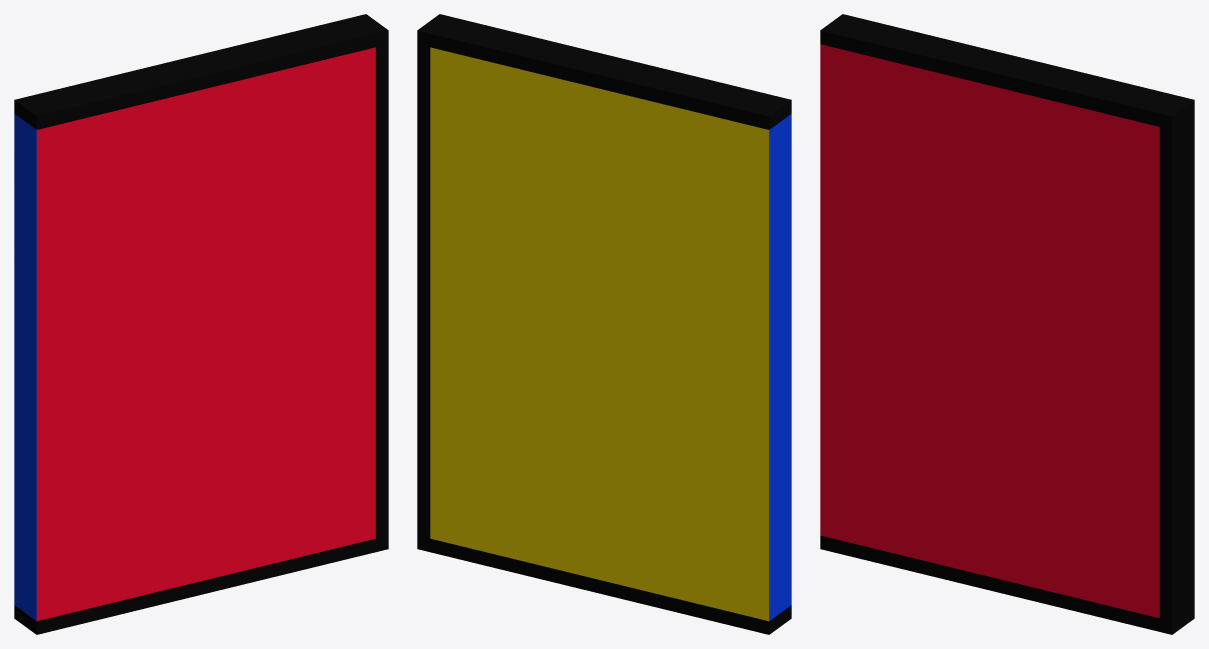
The model's file is carcasaPLACEHOLDER.glb.
3 renders of one model, left to right at view 1: azimuth 30°, elevation 25°; view 2: azimuth 150°, elevation 25°; view 3: azimuth 330°, elevation 25°, orthographic.
Parts seen in each view (by area): view 1: GameCase_LowDetail; view 2: GameCase_LowDetail; view 3: GameCase_LowDetail.
Part boxes in pixels (x1,y1,x2,y2): GameCase_LowDetail: [14, 14, 388, 634]; GameCase_LowDetail: [417, 14, 791, 634]; GameCase_LowDetail: [820, 14, 1194, 634].
Size of the model in its own units: 0.135 by 0.19 by 0.015.
Materials: 2 (1 with a texture image).
